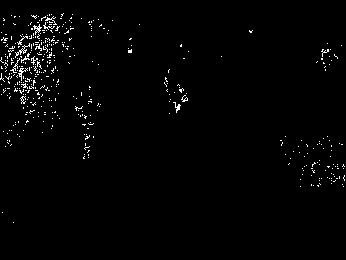person: (75, 82, 102, 162)
